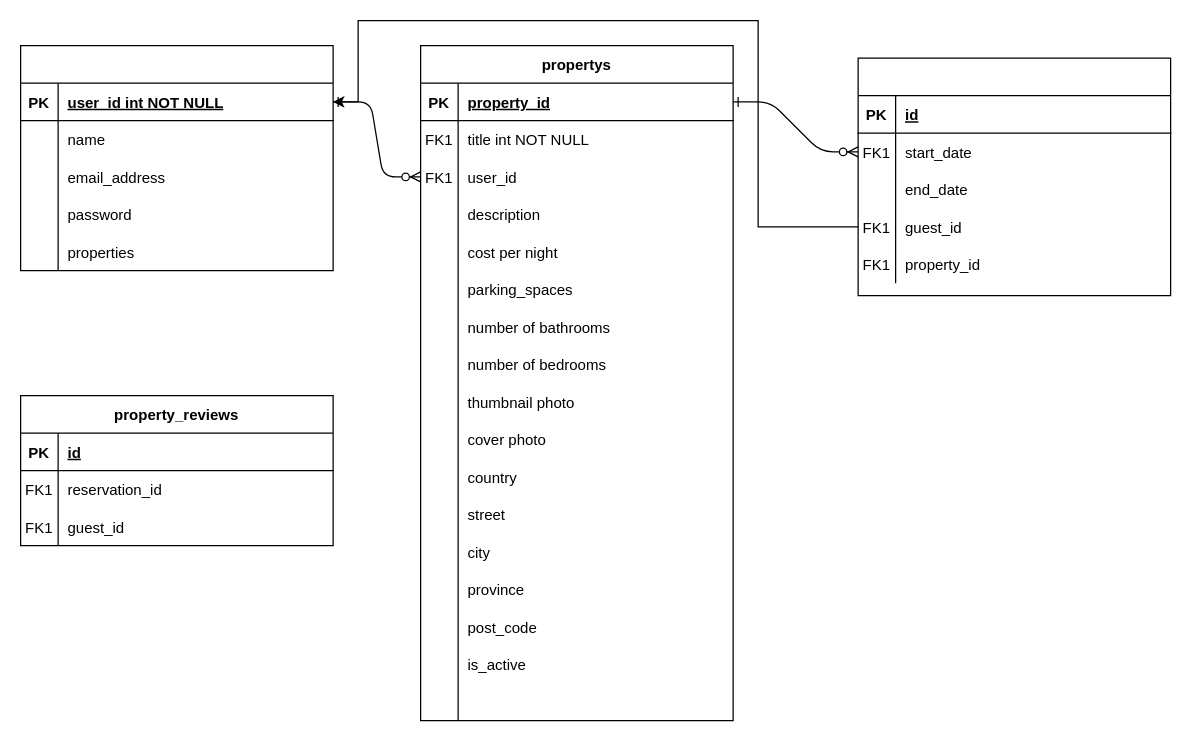
This 1191x741 diagram has some shape labels left out. The shapes that lost their labels are listed below. From the top down, each one's box as (x1, y1, x2, y2) in pixels, then its label:
(19, 44, 333, 271): users
(857, 57, 1171, 296): reservations
